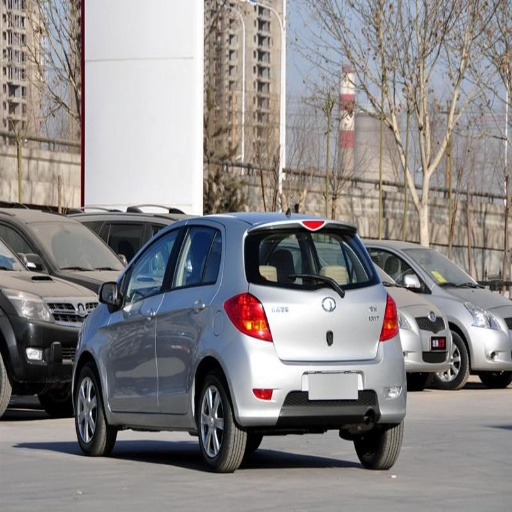back_bumper: (220, 333, 422, 429)
back_glass: (246, 227, 375, 288)
back_left_door: (157, 228, 206, 412)
tailgate: (252, 284, 381, 363)
trunk: (337, 288, 386, 363), (261, 288, 333, 334)
